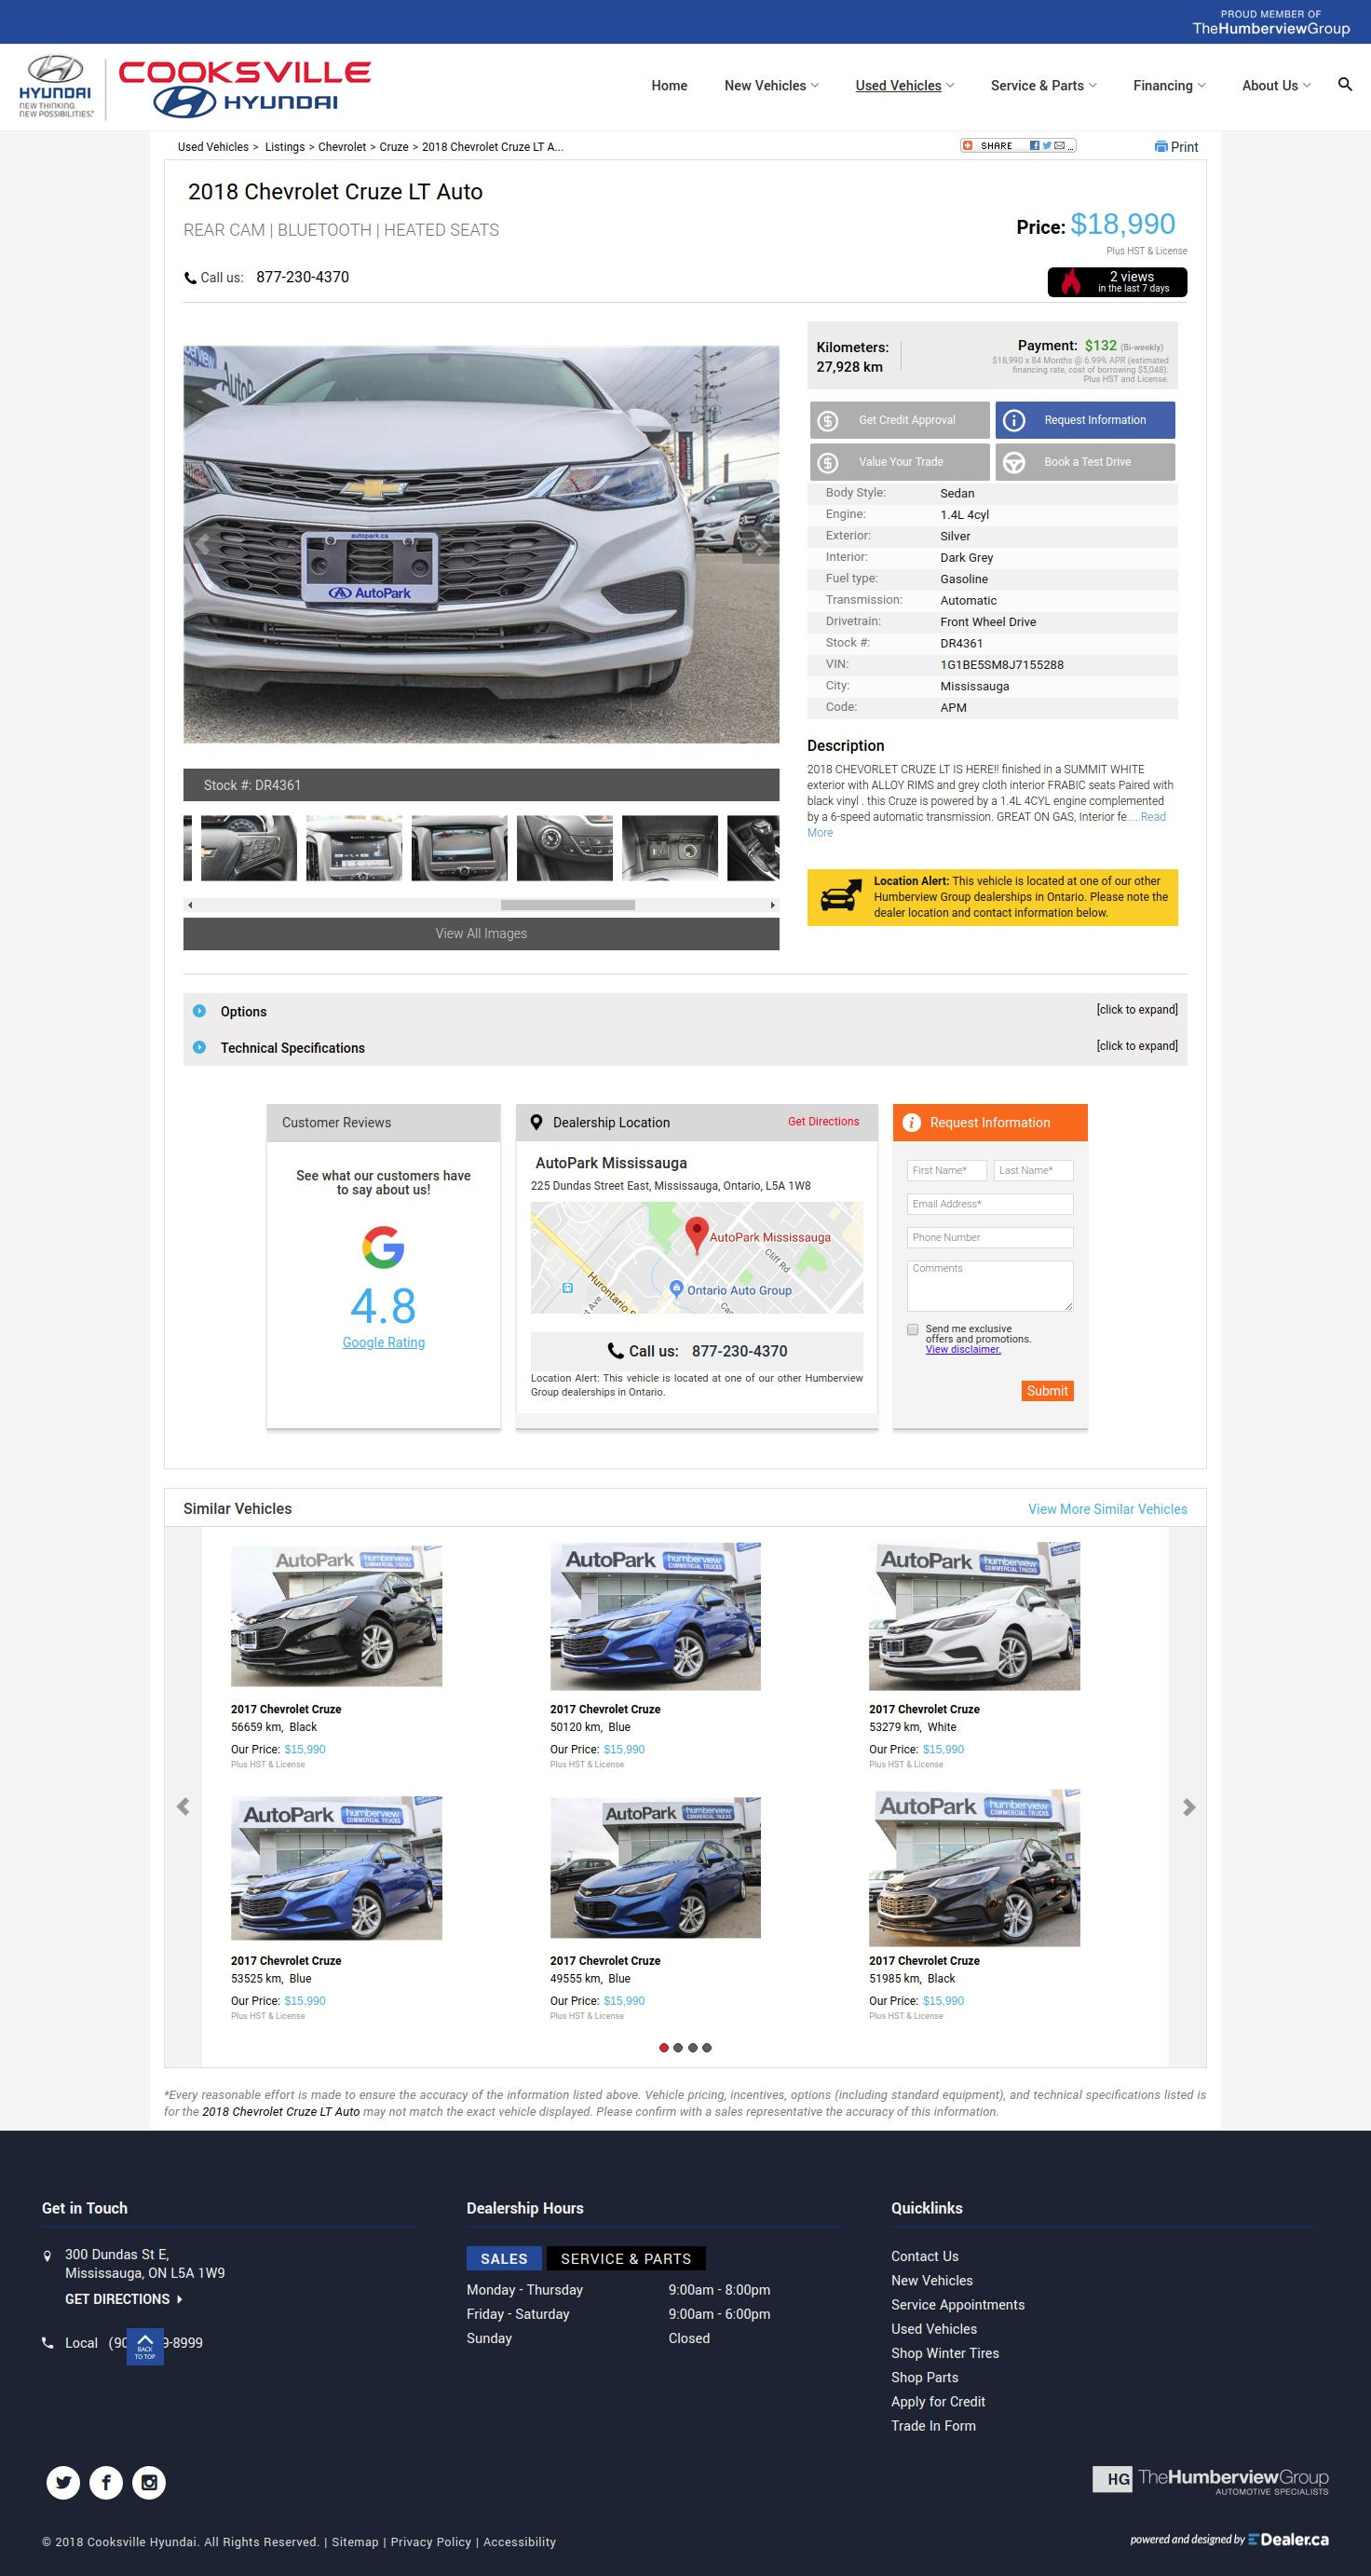car: (770, 901, 777, 910)
